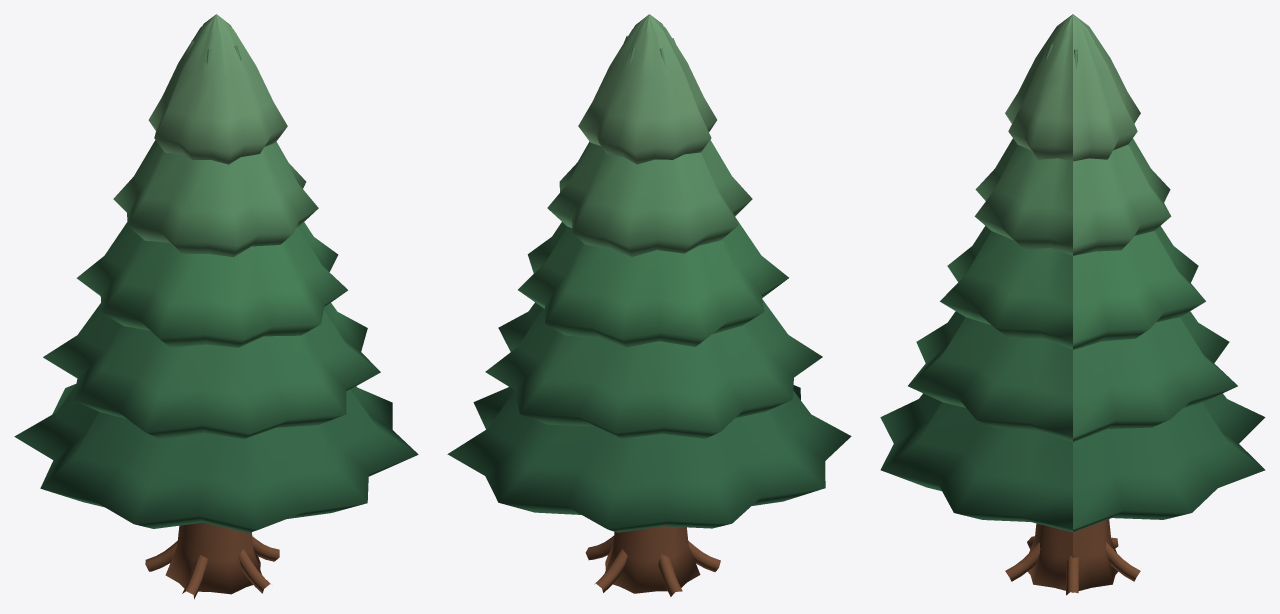
The model's file is pino.glb.
3 renders of one model, left to right at view 1: azimuth 30°, elevation 25°; view 2: azimuth 150°, elevation 25°; view 3: azimuth 270°, elevation 25°, orthographic.
Visible parts, largest first — view 1: pino_ramas_viento_0, pino; view 2: pino_ramas_viento_0, pino; view 3: pino_ramas_viento_0, pino.
Part boxes in pixels (x1,y1,x2,y2): pino_ramas_viento_0: (14, 14, 418, 533); pino: (145, 522, 279, 599); pino_ramas_viento_0: (447, 14, 851, 532); pino: (585, 526, 720, 596); pino_ramas_viento_0: (880, 14, 1265, 532); pino: (1005, 519, 1140, 595).
Size of the model in its own units: 1.56 by 2.37 by 1.48.
